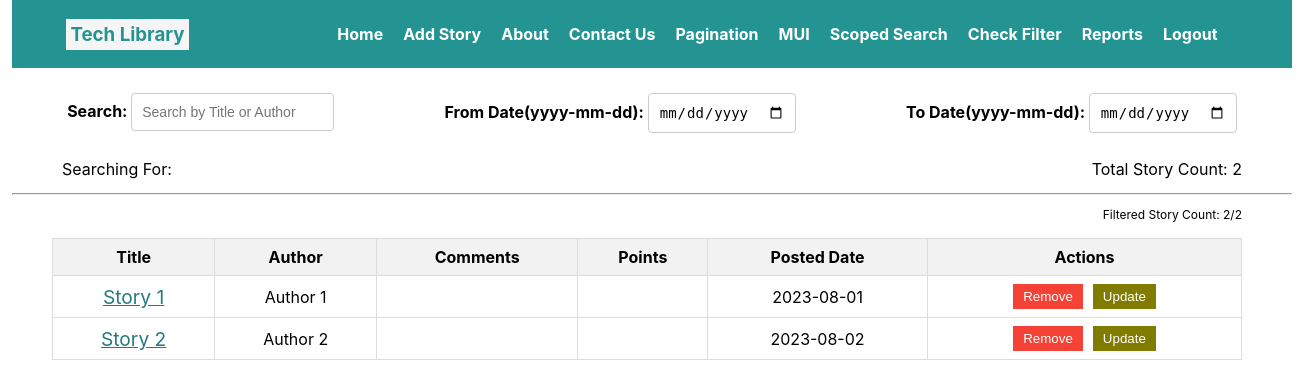
Test: StoriesList › filters stories by search term
The image size is (1304, 377).
Expected: the link "Story 1" is shown, [103,285,164,309]
Expected: the link "Story 2" is shown, [101,327,166,351]
Type "Story 1" into the field with placeholder "Search by Title or Author" at (233, 112), box [131,93,334,131]
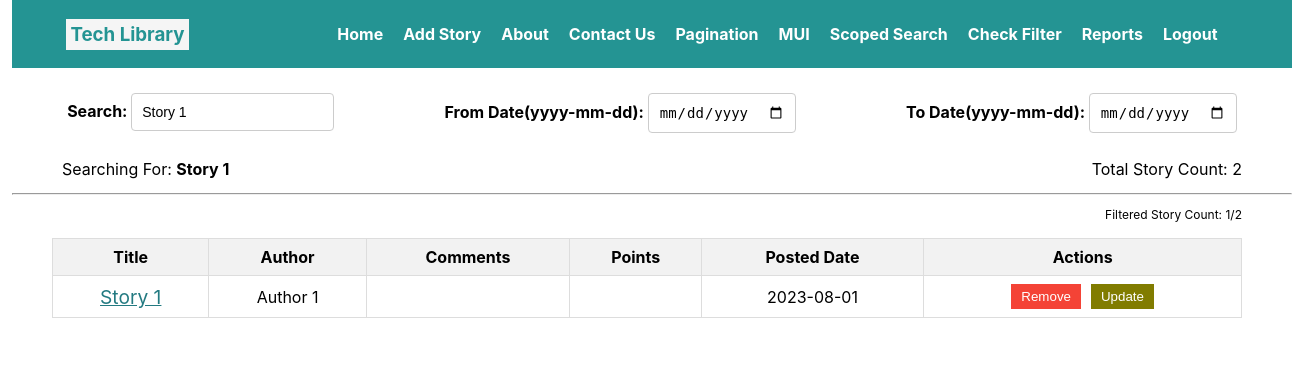
Expected: the text "Story 1" is shown 2 times, [176,159,229,179]; [100,285,161,309]
Expected: the link "Story 2" is gone
